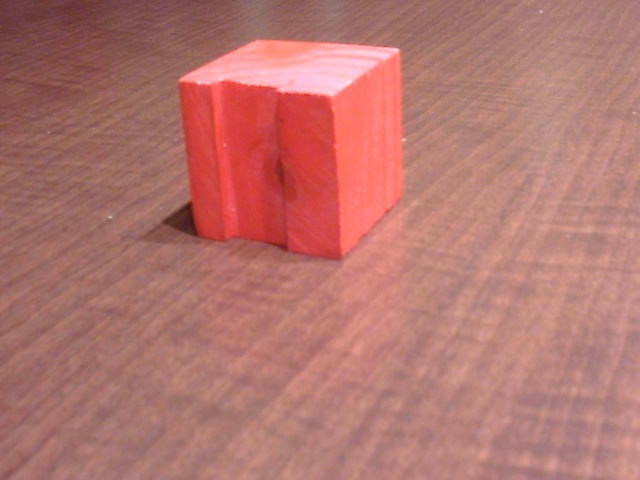RedBlock: (182, 79, 368, 256)
